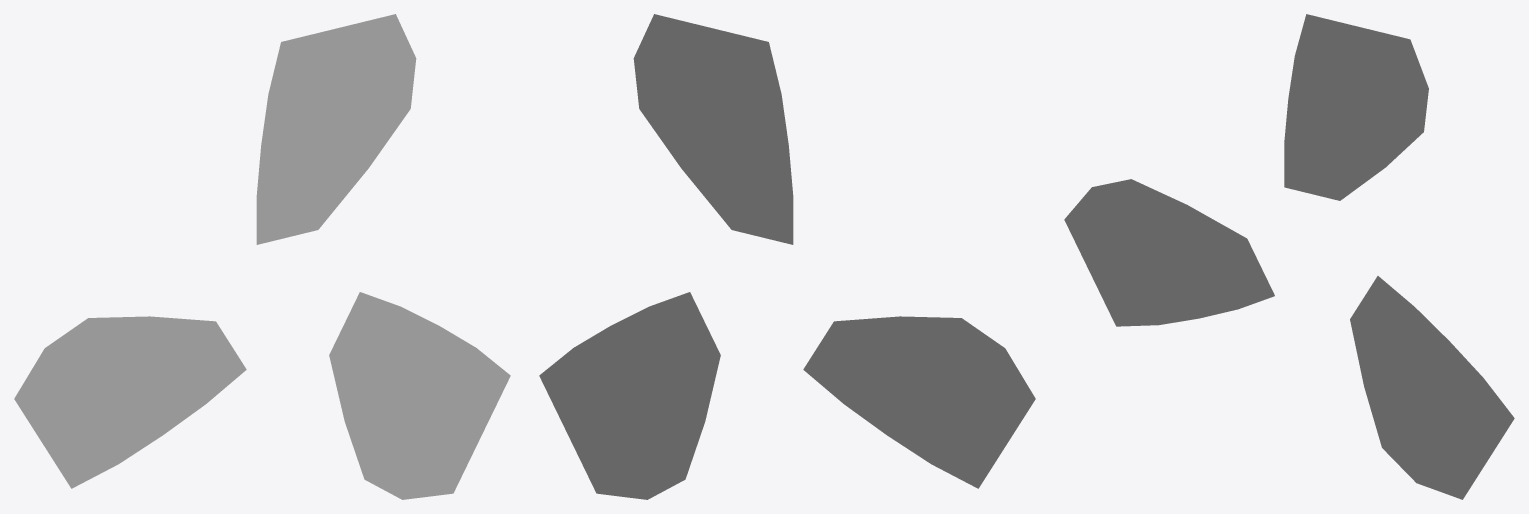
The model's file is Fridge_Fan.fbx.
The picture shows the model from 3 angles, left to right: view 1: azimuth 30°, elevation 25°; view 2: azimuth 150°, elevation 25°; view 3: azimuth 330°, elevation 25°; orthographic projection. The views are drawn at different scales.
Visible parts, largest first — view 1: Plane.001; view 2: Plane.001; view 3: Plane.001.
Boxes of the visible parts, x1,y1,x2,y2 form: Plane.001: (14,14,510,499); Plane.001: (539,14,1035,499); Plane.001: (1064,14,1514,499).
Bounding box in the file's own units: 19.3 × 18.33 × 1.4e-06.
